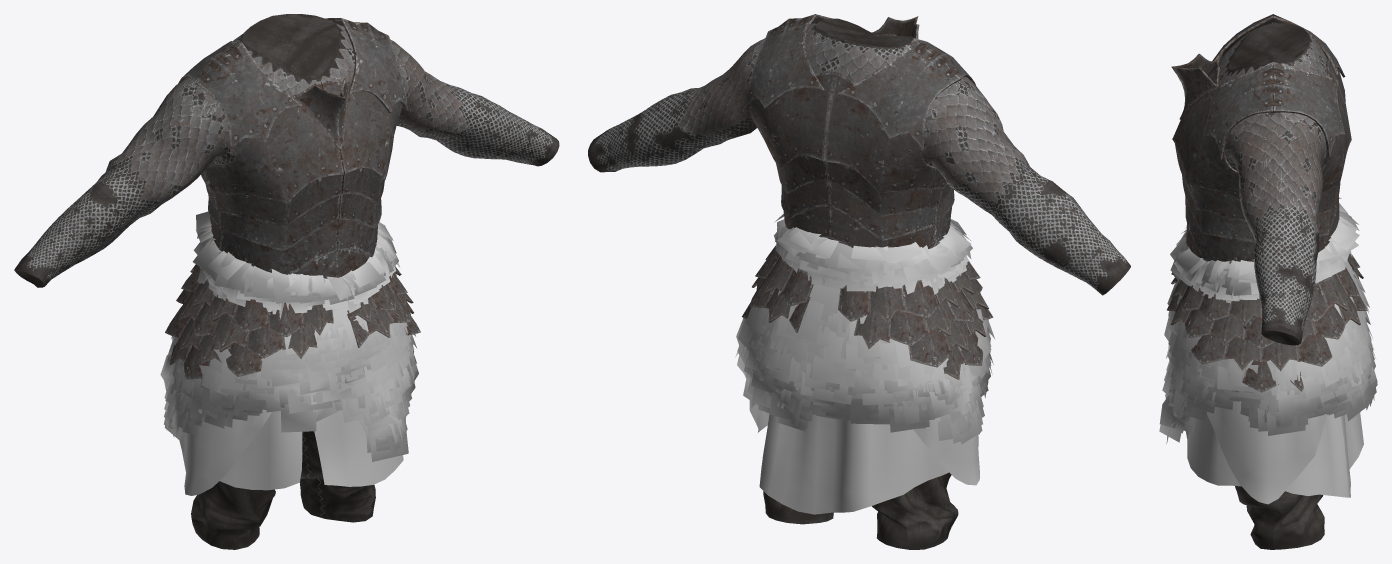
Rendered from sk_gb_uruk_chest_elite_e.fbx.
3 views of the same model, side by side, from view 1: azimuth 30°, elevation 25°; view 2: azimuth 150°, elevation 25°; view 3: azimuth 270°, elevation 25° (orthographic). The views are drawn at different scales.
Visible parts, largest first — view 1: sk_gb_uruk_chest_elite_e.base.0, sk_gb_uruk_chest_elite_e.base.1, sk_gb_uruk_chest_elite_e.skirt.2, sk_gb_uruk_chest_elite_e.base.2, sk_gb_uruk_chest_elite_e.skirt.1; view 2: sk_gb_uruk_chest_elite_e.base.0, sk_gb_uruk_chest_elite_e.base.1, sk_gb_uruk_chest_elite_e.skirt.2, sk_gb_uruk_chest_elite_e.skirt.1, sk_gb_uruk_chest_elite_e.base.2; view 3: sk_gb_uruk_chest_elite_e.base.0, sk_gb_uruk_chest_elite_e.skirt.2, sk_gb_uruk_chest_elite_e.base.1, sk_gb_uruk_chest_elite_e.skirt.1, sk_gb_uruk_chest_elite_e.base.2.
Part boxes in pixels (bbox=[...]): sk_gb_uruk_chest_elite_e.base.0: bbox=[14, 14, 559, 549]; sk_gb_uruk_chest_elite_e.base.1: bbox=[178, 18, 408, 278]; sk_gb_uruk_chest_elite_e.skirt.2: bbox=[160, 211, 418, 461]; sk_gb_uruk_chest_elite_e.base.2: bbox=[165, 264, 420, 379]; sk_gb_uruk_chest_elite_e.skirt.1: bbox=[179, 409, 406, 495]; sk_gb_uruk_chest_elite_e.base.0: bbox=[588, 18, 1130, 549]; sk_gb_uruk_chest_elite_e.base.1: bbox=[746, 14, 976, 248]; sk_gb_uruk_chest_elite_e.skirt.2: bbox=[735, 213, 995, 444]; sk_gb_uruk_chest_elite_e.skirt.1: bbox=[749, 400, 979, 514]; sk_gb_uruk_chest_elite_e.base.2: bbox=[742, 244, 993, 379]; sk_gb_uruk_chest_elite_e.base.0: bbox=[1218, 23, 1327, 549]; sk_gb_uruk_chest_elite_e.skirt.2: bbox=[1159, 197, 1377, 444]; sk_gb_uruk_chest_elite_e.base.1: bbox=[1171, 14, 1351, 263]; sk_gb_uruk_chest_elite_e.skirt.1: bbox=[1185, 401, 1363, 504]; sk_gb_uruk_chest_elite_e.base.2: bbox=[1167, 253, 1367, 392].
Size of the model in its own units: 1.35 by 0.4991 by 1.2.
